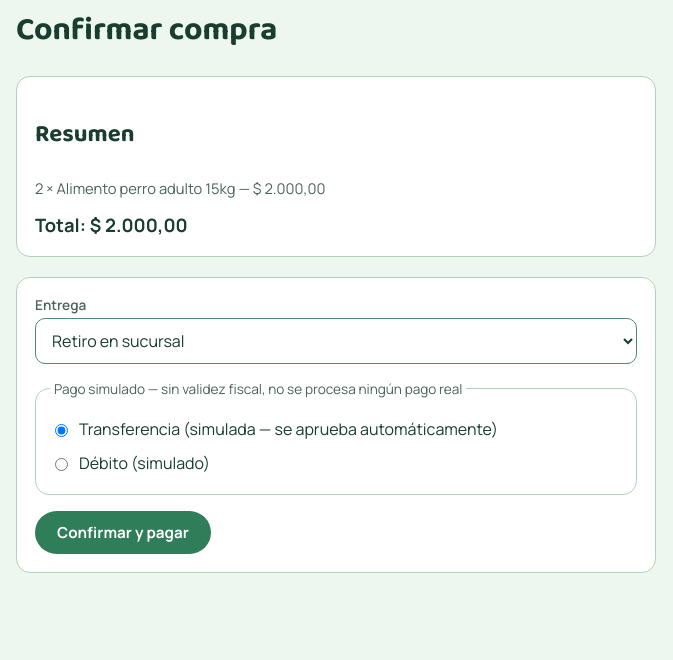
Test case: Checkout › si la cotización quedó desactualizada (409), muestra el resumen nuevo y NO navega
Expected: the text "Total: $ 2.000,00" is shown, top-left (35, 212), bottom-right (188, 238)
Click the button "Confirmar y pagar".
click(123, 532)  # box top-left (35, 511), bottom-right (211, 554)
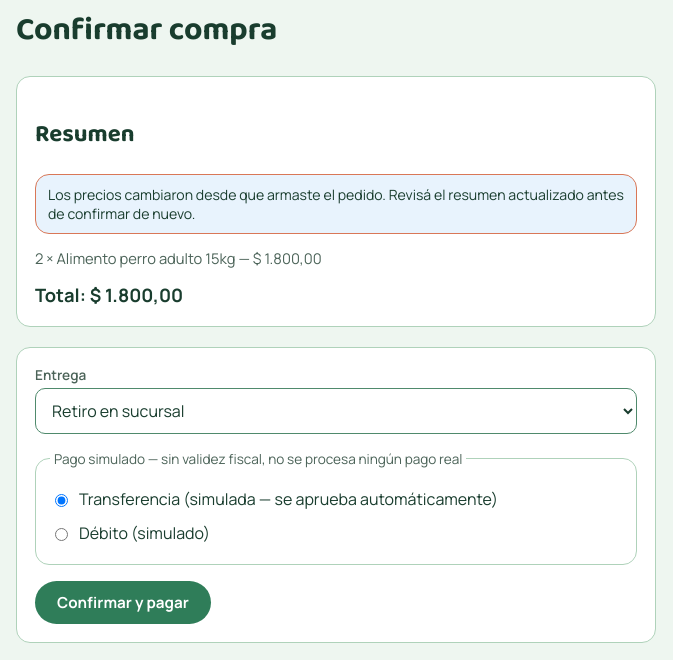
Now the text "Los precios cambiaron" is shown, box top-left (48, 185), bottom-right (624, 223)
Now the text with test id "checkout-total" shows "1.800", box top-left (90, 282), bottom-right (183, 308)
